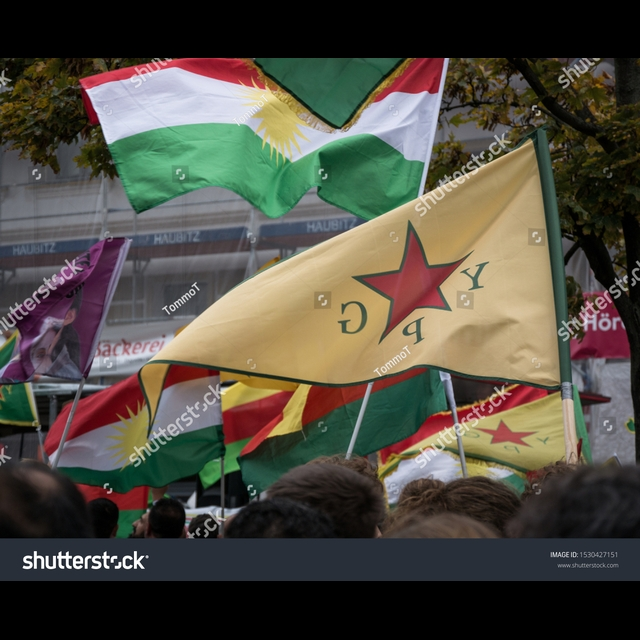IBKY: (84, 61, 416, 199), (96, 399, 182, 470)
YPG: (337, 222, 494, 350), (461, 416, 558, 459)
